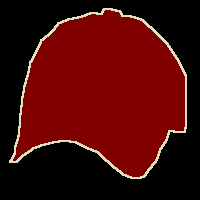hat: (10, 8, 186, 178)
